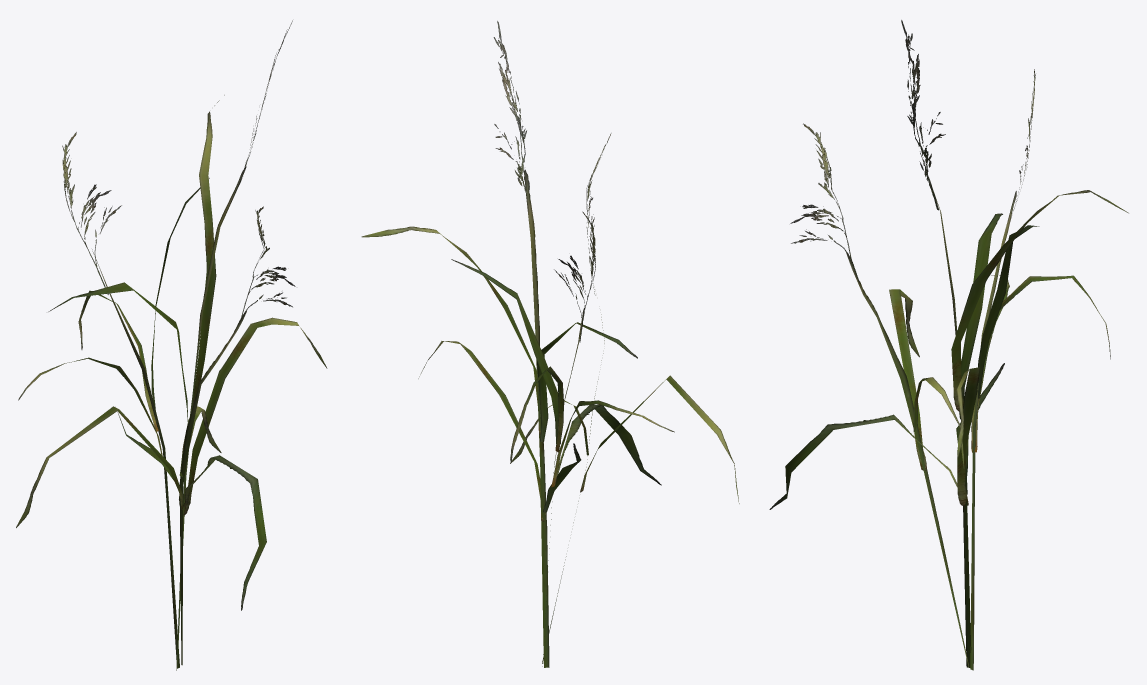
Rendered from grass_medium_01_tall_b_LOD1.glb.
3 renders of one model, left to right at view 1: azimuth 30°, elevation 25°; view 2: azimuth 150°, elevation 25°; view 3: azimuth 270°, elevation 25°, orthographic. The views are drawn at different scales.
Parts seen in each view (by area): view 1: grass_medium_01_tall_b_LOD1__lod0; view 2: grass_medium_01_tall_b_LOD1__lod0; view 3: grass_medium_01_tall_b_LOD1__lod0.
Part boxes in pixels (left/top/right/bottom): grass_medium_01_tall_b_LOD1__lod0: left=16, top=20, right=327, bottom=670; grass_medium_01_tall_b_LOD1__lod0: left=361, top=21, right=739, bottom=667; grass_medium_01_tall_b_LOD1__lod0: left=769, top=20, right=1128, bottom=670.
Size of what is drawn, in the model's own units: 0.1499 by 0.2857 by 0.1348.
1 material, 1 textured.
